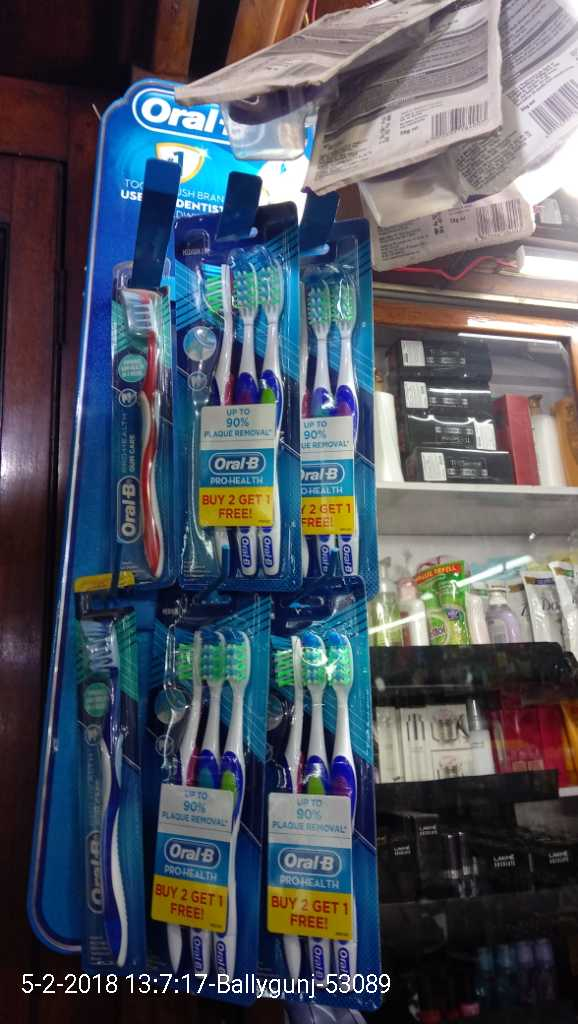oralb: (269, 611, 386, 994), (160, 613, 254, 960), (191, 261, 283, 580), (76, 616, 138, 976), (292, 283, 358, 574), (114, 269, 167, 576)
